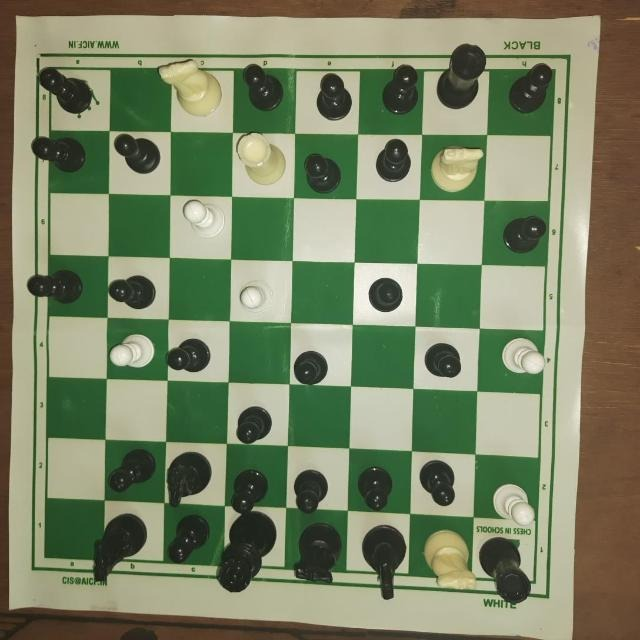black-knight: (83, 512, 149, 583), (355, 525, 408, 600), (290, 521, 344, 589), (158, 451, 214, 510)
black-pawn: (158, 513, 210, 571), (36, 66, 98, 113), (108, 445, 165, 495), (225, 464, 279, 516), (503, 64, 551, 118), (239, 60, 284, 117), (28, 134, 89, 176), (377, 66, 424, 116), (290, 464, 337, 512), (27, 266, 85, 304), (501, 210, 549, 255), (115, 128, 159, 176), (164, 332, 212, 374), (311, 75, 351, 125), (354, 461, 397, 507), (372, 140, 414, 186), (416, 464, 464, 504), (300, 153, 345, 195), (227, 406, 274, 446), (109, 271, 153, 313), (366, 274, 405, 321), (423, 341, 464, 381), (290, 348, 327, 383)
black-queen: (211, 508, 275, 598)
black-rook: (435, 44, 490, 116), (480, 540, 532, 610)
white-knight: (418, 518, 476, 588), (161, 58, 223, 121), (432, 144, 488, 196)
white-pawn: (490, 478, 536, 529), (497, 333, 543, 381), (179, 201, 229, 241), (110, 331, 158, 371), (237, 273, 277, 314)
white-rook: (235, 132, 290, 187)
